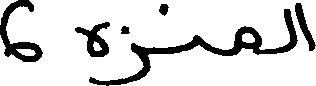X: (0, 0, 40, 66), (75, 17, 109, 85), (119, 21, 148, 85), (297, 0, 315, 55), (235, 21, 259, 59), (283, 0, 295, 57), (192, 30, 202, 53)
